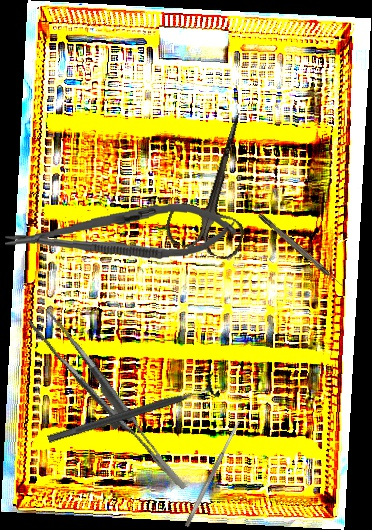Fixation Ring: (44, 371, 221, 453)
Hook Surgical: (257, 211, 345, 290)
Iris Scissors: (161, 101, 278, 263)
Needle Holder: (3, 198, 238, 268)
Spatula Surgical: (183, 420, 242, 528)
Tissue Forceps: (28, 296, 187, 512)
